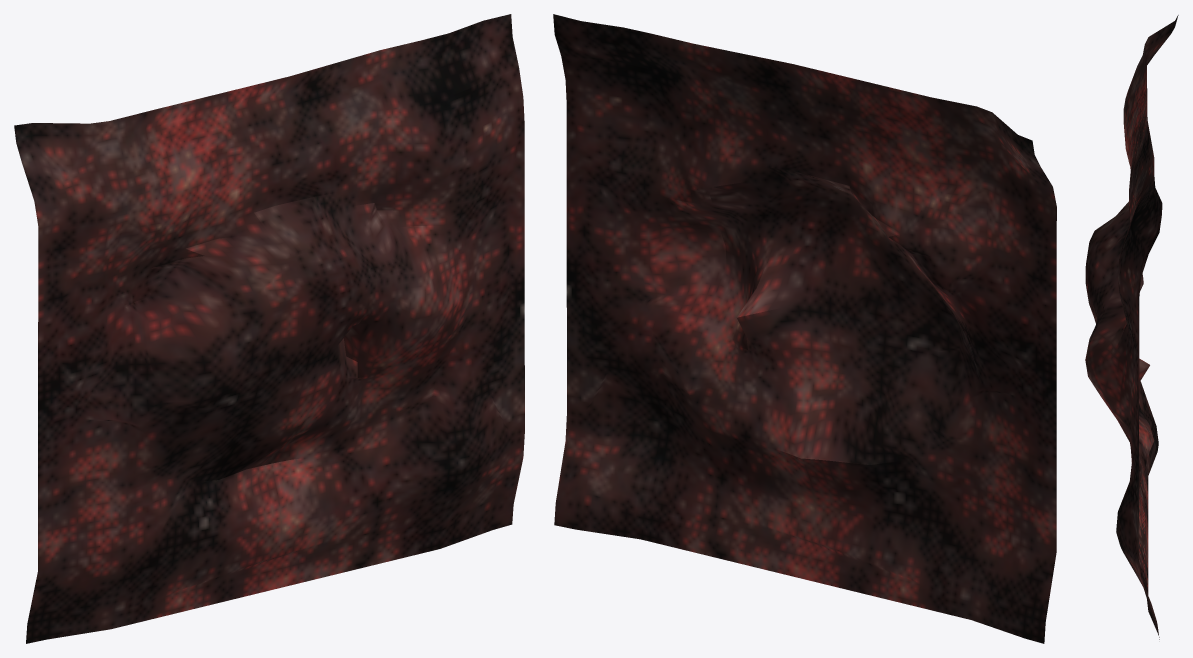
Rendered from FleshWall.fbx.
3 renders of one model, left to right at view 1: azimuth 30°, elevation 25°; view 2: azimuth 150°, elevation 25°; view 3: azimuth 270°, elevation 25°, orthographic. The views are drawn at different scales.
Visible parts, largest first — view 1: Plane; view 2: Plane; view 3: Plane.
Part boxes in pixels (box(x1,y1,x2,y2)): Plane: box(14, 14, 524, 643); Plane: box(553, 14, 1056, 643); Plane: box(1085, 15, 1178, 639).
Size of the model in its own units: 725 by 726 by 143.
